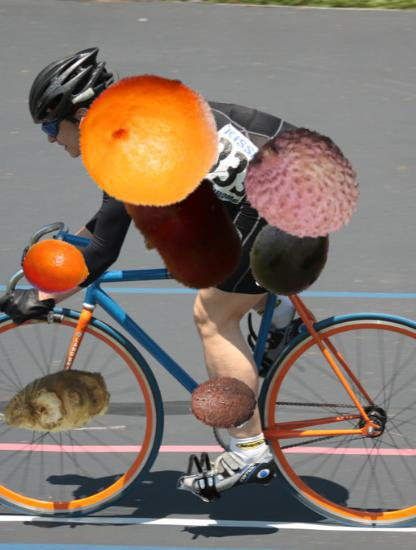Cocos: (189, 368, 258, 437)
Ginger: (1, 348, 112, 459)
Lemon: (78, 70, 221, 213)
Lychee: (244, 127, 363, 246)
Nectarine: (110, 149, 257, 296)
Plum: (244, 204, 340, 300)
Tangelo: (23, 234, 90, 301)
